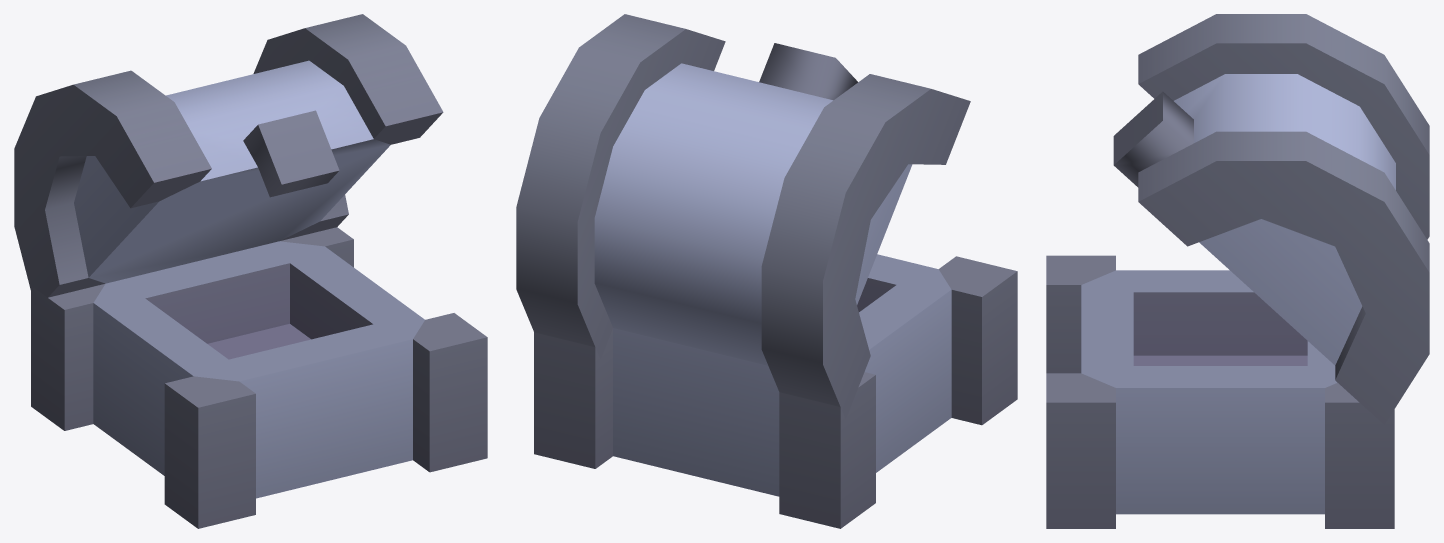
File: chest.glb
3 views of the same model, side by side, from view 1: azimuth 30°, elevation 25°; view 2: azimuth 150°, elevation 25°; view 3: azimuth 270°, elevation 25° (orthographic). The views are drawn at different scales.
Parts seen in each view (by area): view 1: chest, lid; view 2: lid, chest; view 3: lid, chest.
Part boxes in pixels (bbox=[...]): chest: bbox=[31, 227, 487, 528]; lid: bbox=[14, 14, 443, 309]; lid: bbox=[516, 14, 970, 419]; chest: bbox=[534, 254, 1017, 528]; lid: bbox=[1113, 14, 1429, 424]; chest: bbox=[1046, 255, 1394, 528].
Bounding box in the file's own units: 1.27 × 1.49 × 1.4.
Materials: 1 (1 with a texture image).
